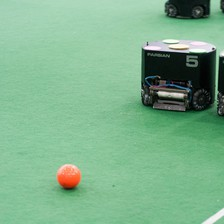ball: (54, 162, 83, 192)
robot: (138, 35, 216, 113), (161, 1, 210, 21), (215, 50, 224, 117)
